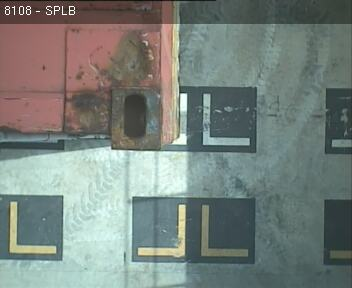groundmarker_1: (136, 205, 249, 256), (170, 93, 251, 146)
